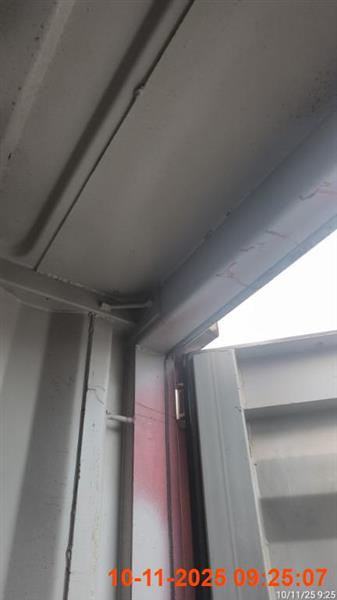hole: (1, 7, 335, 597)
